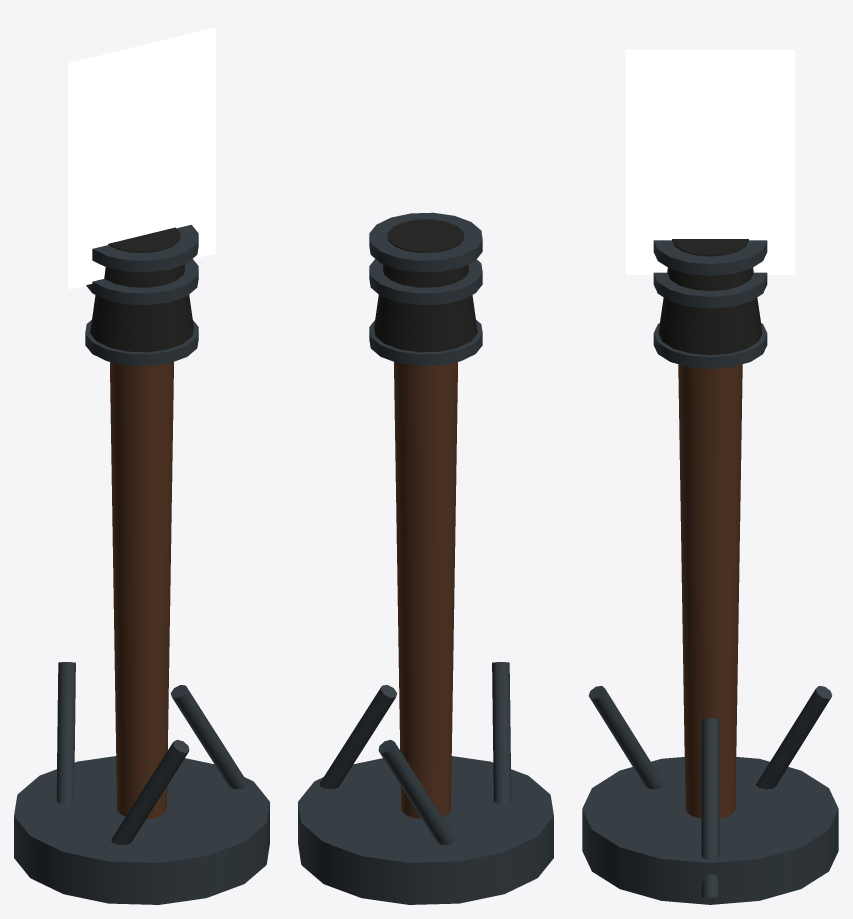
The model's file is standing_torch.glb.
The picture shows the model from 3 angles, left to right: view 1: azimuth 30°, elevation 25°; view 2: azimuth 150°, elevation 25°; view 3: azimuth 270°, elevation 25°; orthographic projection.
Visible parts, largest first — view 1: _MeshInstance3D_30; view 2: _MeshInstance3D_30; view 3: _MeshInstance3D_30.
Boxes of the visible parts, x1,y1,x2,y2 form: _MeshInstance3D_30: [14, 27, 269, 904]; _MeshInstance3D_30: [298, 212, 553, 904]; _MeshInstance3D_30: [582, 49, 838, 904].
Size of the model in its own units: 0.5231 by 1.72 by 0.5.
